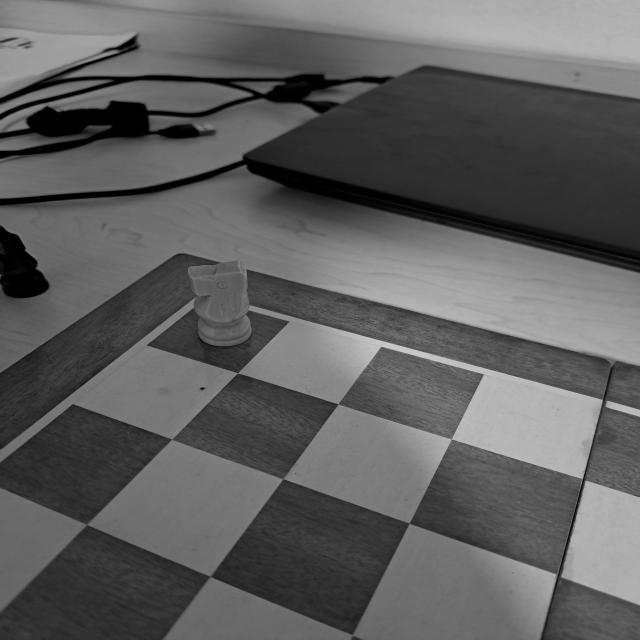chess-table-corners: (157, 283, 271, 327)
